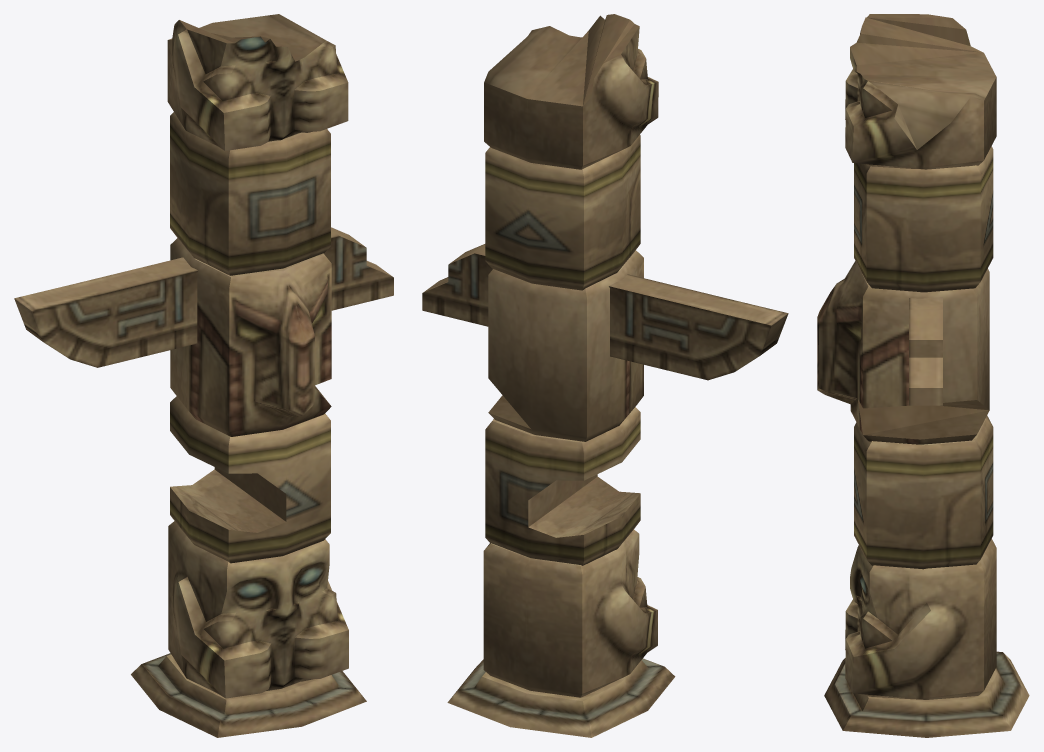
File: Yegesl_diaosu01.FBX
The picture shows the model from 3 angles, left to right: view 1: azimuth 30°, elevation 25°; view 2: azimuth 150°, elevation 25°; view 3: azimuth 270°, elevation 25°; orthographic projection. The views are drawn at different scales.
Parts seen in each view (by area): view 1: Yegesl_diaosu01; view 2: Yegesl_diaosu01; view 3: Yegesl_diaosu01.
Boxes of the visible parts, <box> form: Yegesl_diaosu01: <box>14,14,393,737</box>; Yegesl_diaosu01: <box>422,14,788,737</box>; Yegesl_diaosu01: <box>817,14,1029,737</box>.
Bounding box in the file's own units: 46.71 × 24.48 × 83.95.
